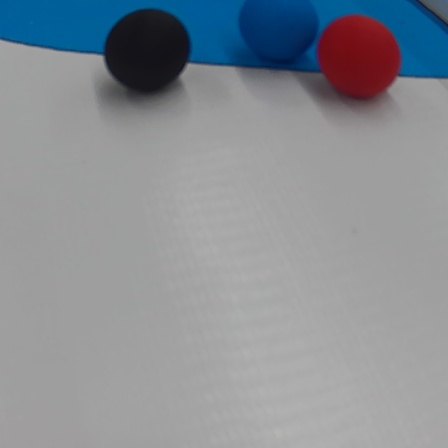black: (98, 7, 190, 93)
blue: (240, 0, 320, 66)
blue_base: (0, 0, 448, 84)
red: (321, 13, 403, 100)
